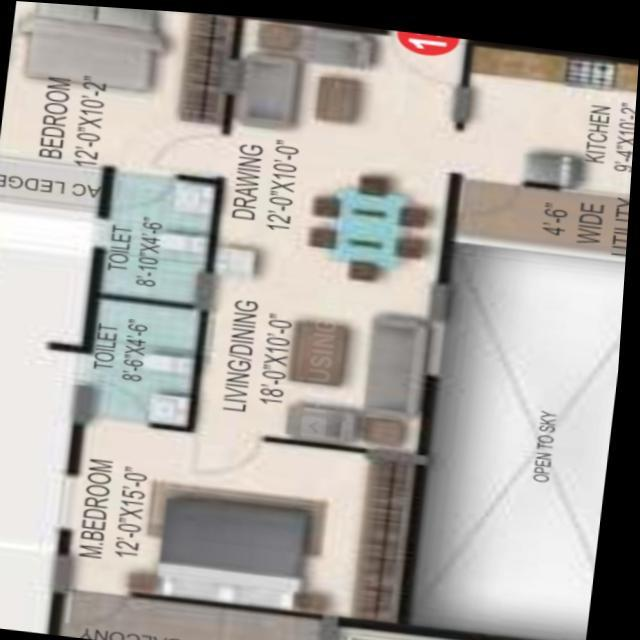Balcony-Sitout: (69, 589, 329, 640)
Bedroom with Toilet: (0, 1, 239, 303), (75, 414, 420, 622)
Dining: (301, 152, 440, 289)
Enterance-Foyer: (381, 23, 468, 82)
Kitchen: (463, 43, 639, 187)
Living: (199, 266, 438, 446)
Toilet: (104, 171, 216, 298), (91, 295, 203, 421)
Utility: (456, 170, 632, 248)
